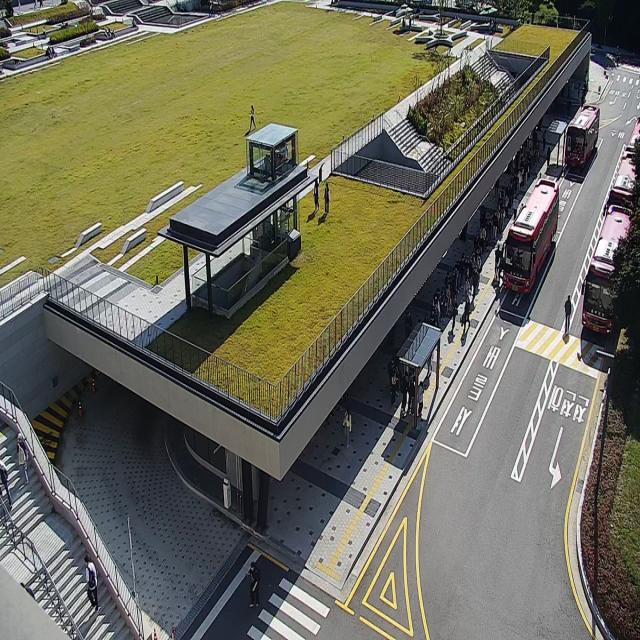queue: (414, 147, 540, 432)
